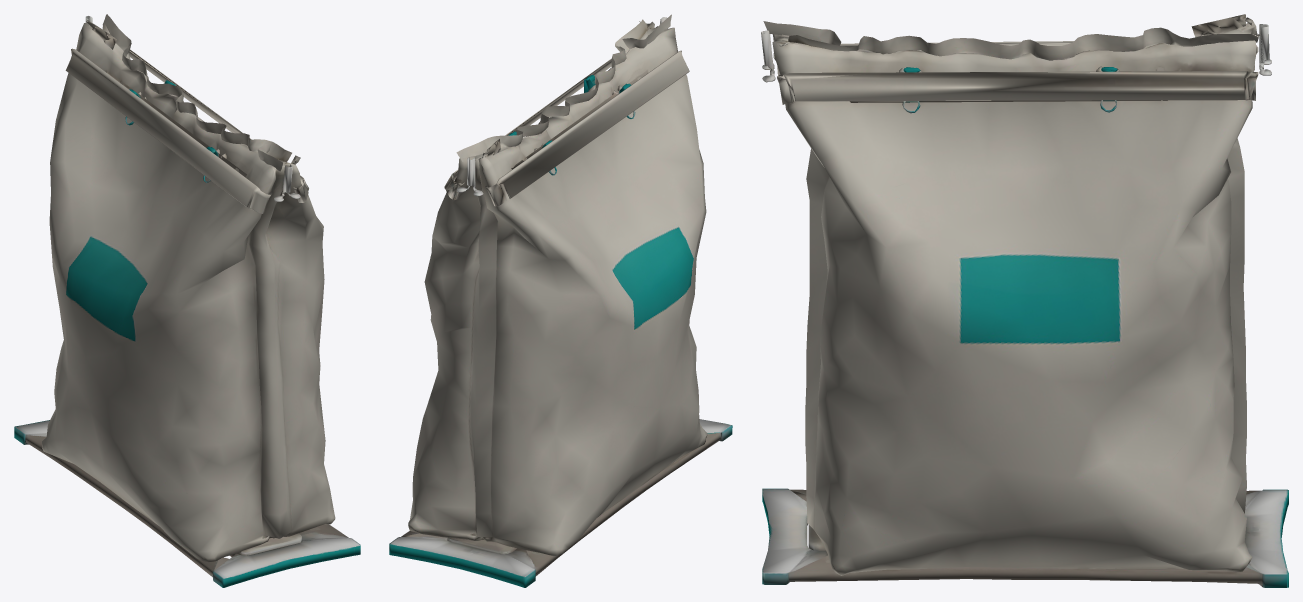
3 renders of one model, left to right at view 1: azimuth 30°, elevation 25°; view 2: azimuth 150°, elevation 25°; view 3: azimuth 270°, elevation 25°, orthographic. The views are drawn at different scales.
Parts seen in each view (by area): view 1: tripo_node_ad29212b-154a-45b8-be50-eb503ce35558; view 2: tripo_node_ad29212b-154a-45b8-be50-eb503ce35558; view 3: tripo_node_ad29212b-154a-45b8-be50-eb503ce35558.
Part boxes in pixels (<box>): tripo_node_ad29212b-154a-45b8-be50-eb503ce35558: <box>14,14,360,587</box>; tripo_node_ad29212b-154a-45b8-be50-eb503ce35558: <box>389,14,732,587</box>; tripo_node_ad29212b-154a-45b8-be50-eb503ce35558: <box>761,14,1288,587</box>.
Size of the model in its own units: 0.5059 by 0.998 by 0.9121.
1 material, 1 textured.
